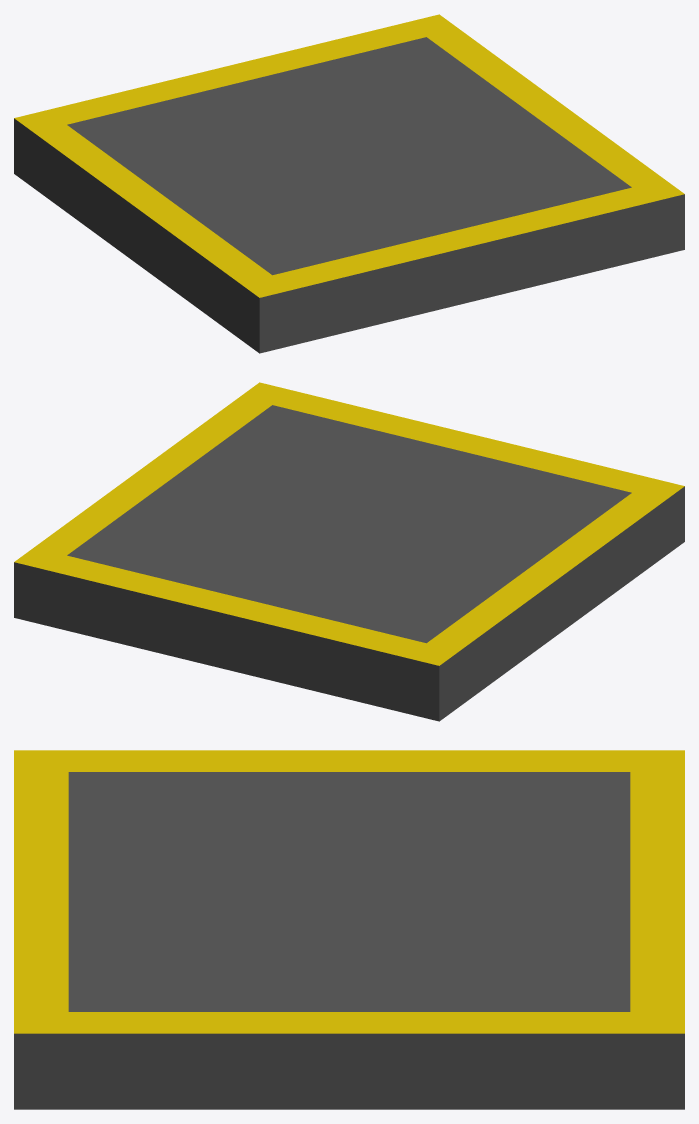
The model's file is RoadConnector.fbx.
3 renders of one model, top to bottom at view 1: azimuth 30°, elevation 25°; view 2: azimuth 150°, elevation 25°; view 3: azimuth 270°, elevation 25°, orthographic. The views are drawn at different scales.
Visible parts, largest first — view 1: pCube3; view 2: pCube3; view 3: pCube3.
Boxes of the visible parts, bbox=[...] form: pCube3: bbox=[14, 14, 684, 353]; pCube3: bbox=[14, 382, 684, 721]; pCube3: bbox=[14, 750, 684, 1109].
Size of the model in its own units: 8 by 1 by 8.
